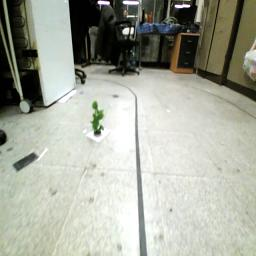herb: (91, 100, 109, 136)
